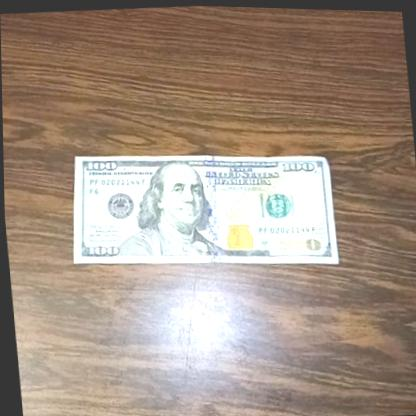one_hundred-front: (66, 134, 340, 281)
